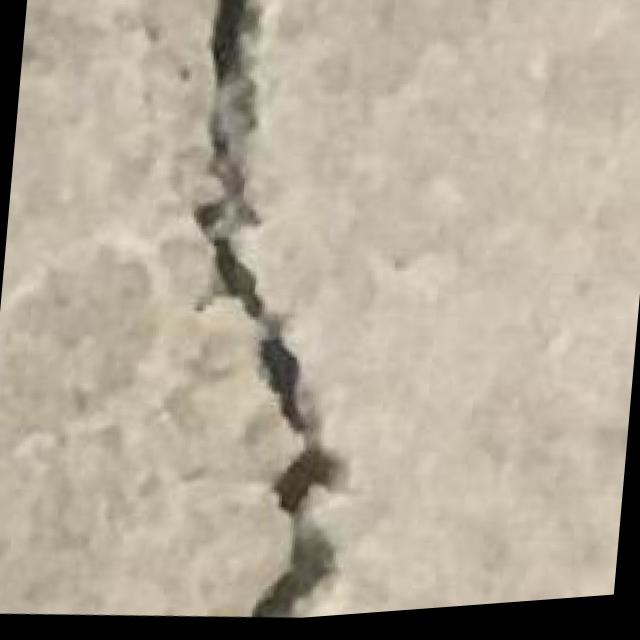Crack: (152, 0, 418, 631)
